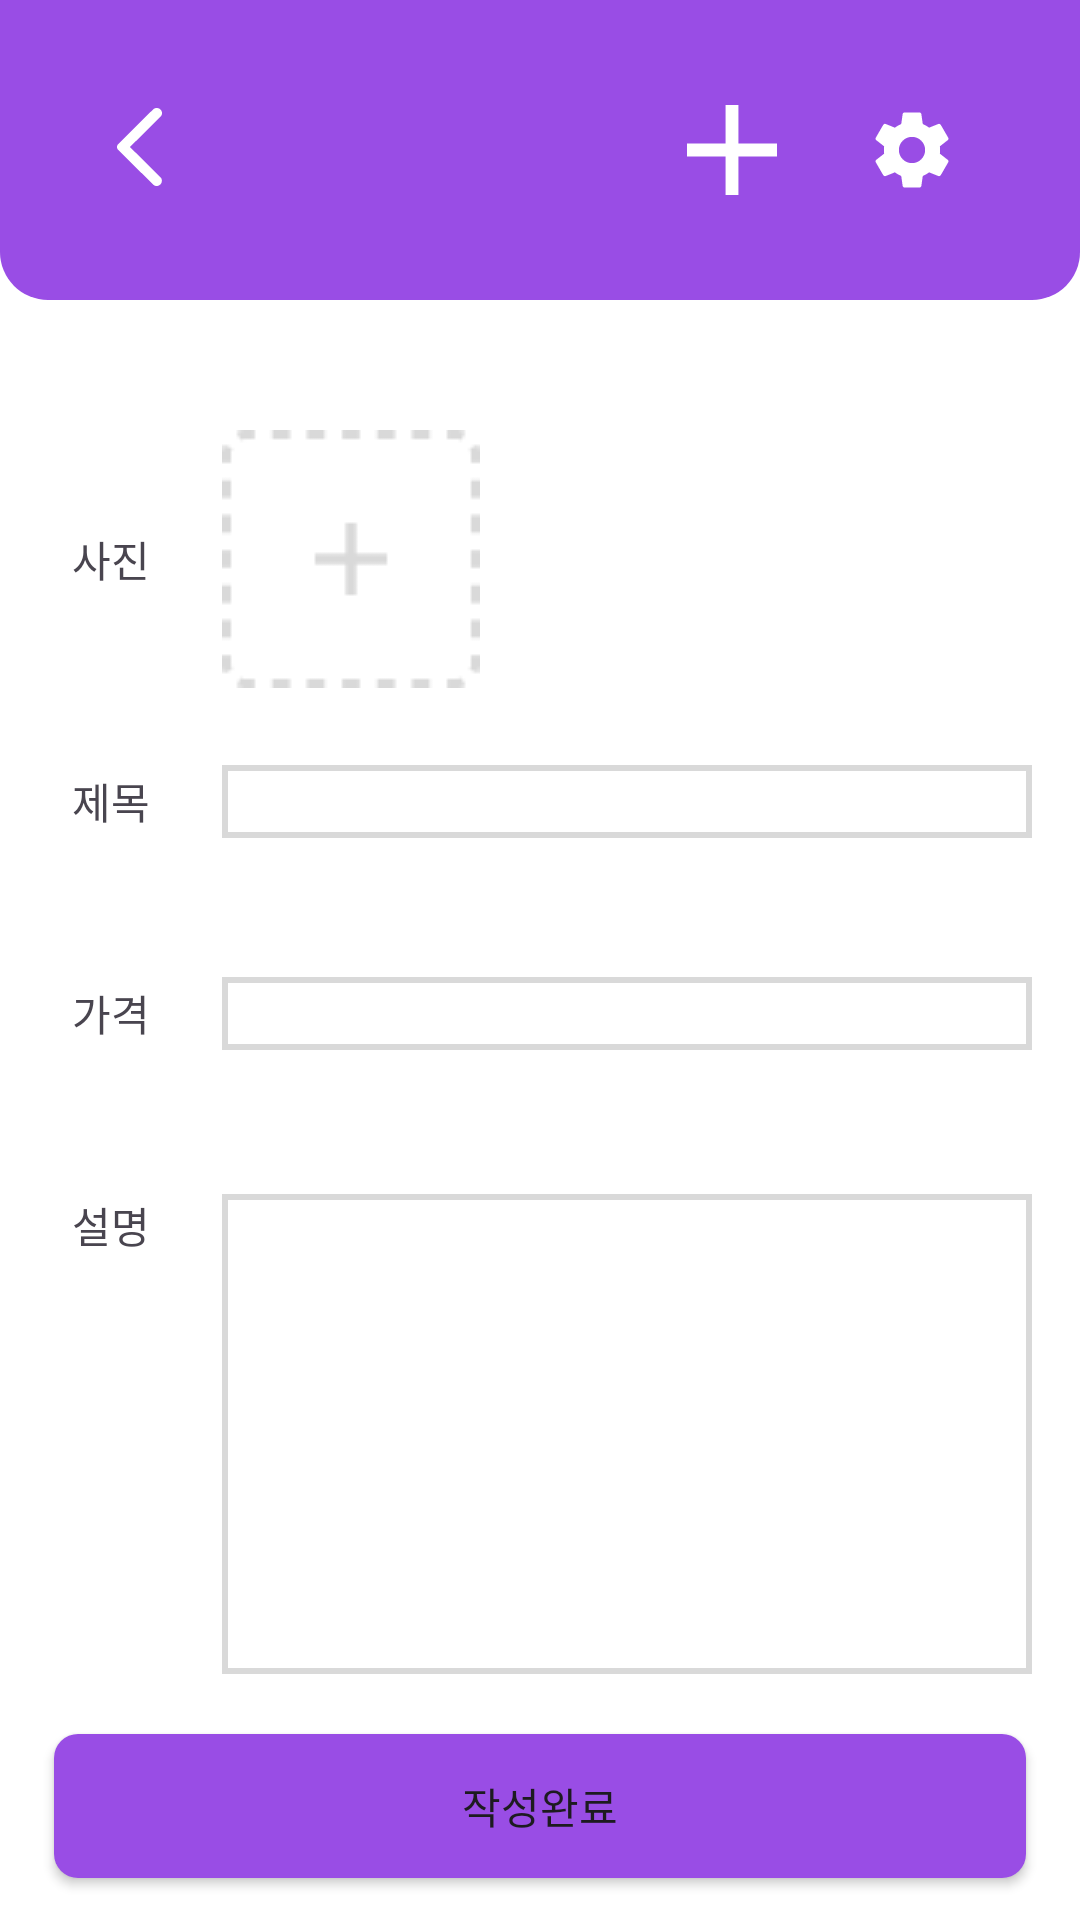

Icon bounding boxes for this 1080x1920 phone screenshot, format (x1, y1, x2, y2):
add: (687, 105, 777, 195)
back: (117, 108, 162, 186)
setting: (875, 112, 949, 188)
